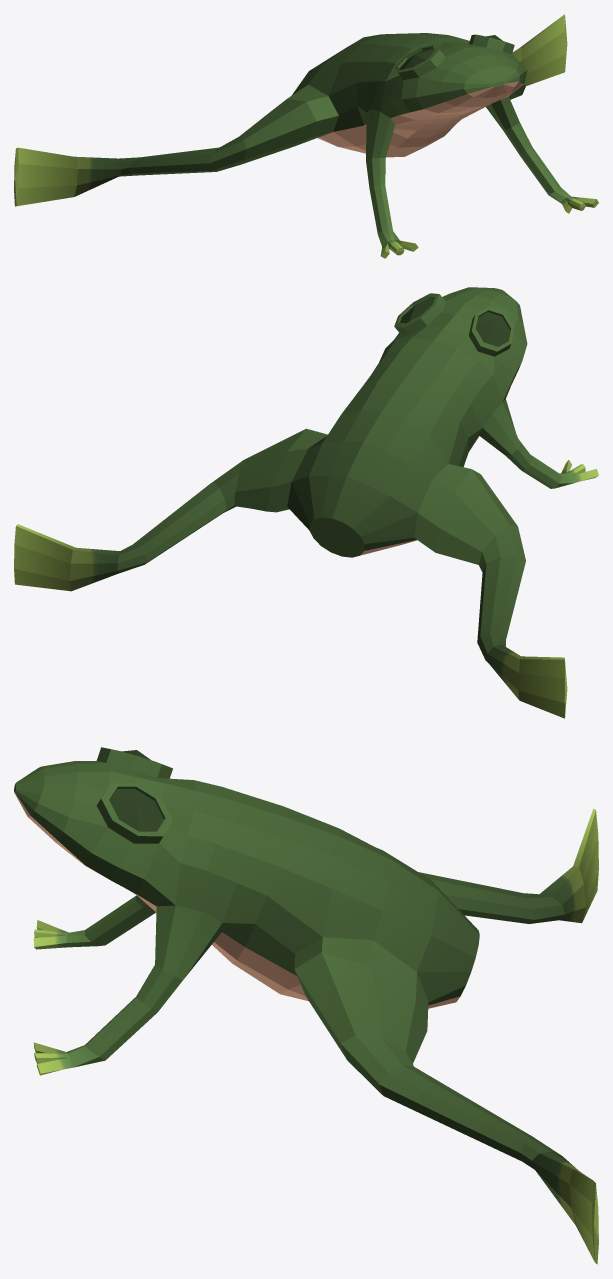
The model's file is frog.glb.
3 views of the same model, one above another, from view 1: azimuth 30°, elevation 25°; view 2: azimuth 150°, elevation 25°; view 3: azimuth 270°, elevation 25° (orthographic). The views are drawn at different scales.
Parts seen in each view (by area): view 1: frog; view 2: frog; view 3: frog.
Boxes of the visible parts, x1,y1,x2,y2 form: frog: (14,14,598,258); frog: (14,287,598,718); frog: (14,747,598,1264).
Bounding box in the file's own units: 7.53 × 2.91 × 4.96.
Materials: 1 (1 with a texture image).
